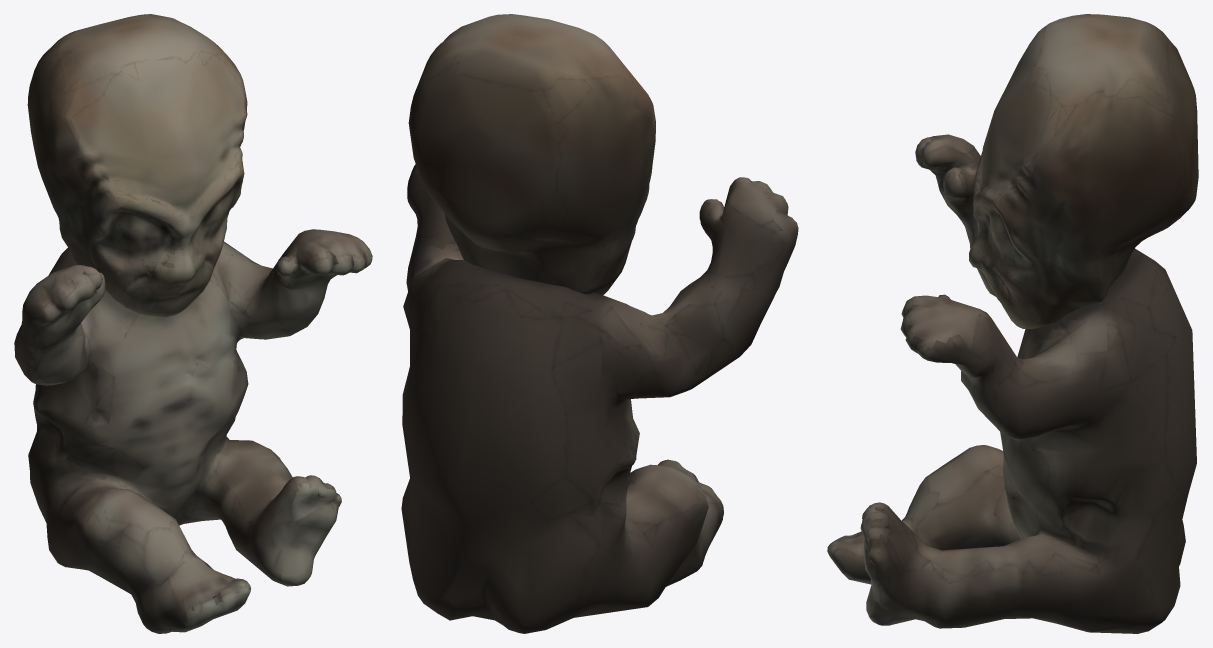
Rendered from x-files-pinball-alien-toy-90313d.glb.
3 renders of one model, left to right at view 1: azimuth 30°, elevation 25°; view 2: azimuth 150°, elevation 25°; view 3: azimuth 270°, elevation 25°, orthographic. The views are drawn at different scales.
Parts seen in each view (by area): view 1: PropMesh; view 2: PropMesh; view 3: PropMesh.
Part boxes in pixels (bbox=[...]): PropMesh: bbox=[14, 14, 372, 633]; PropMesh: bbox=[401, 14, 798, 633]; PropMesh: bbox=[827, 14, 1198, 633].
Size of the model in its own units: 0.2295 by 0.35 by 0.1984.
Materials: 2 (2 with a texture image).
